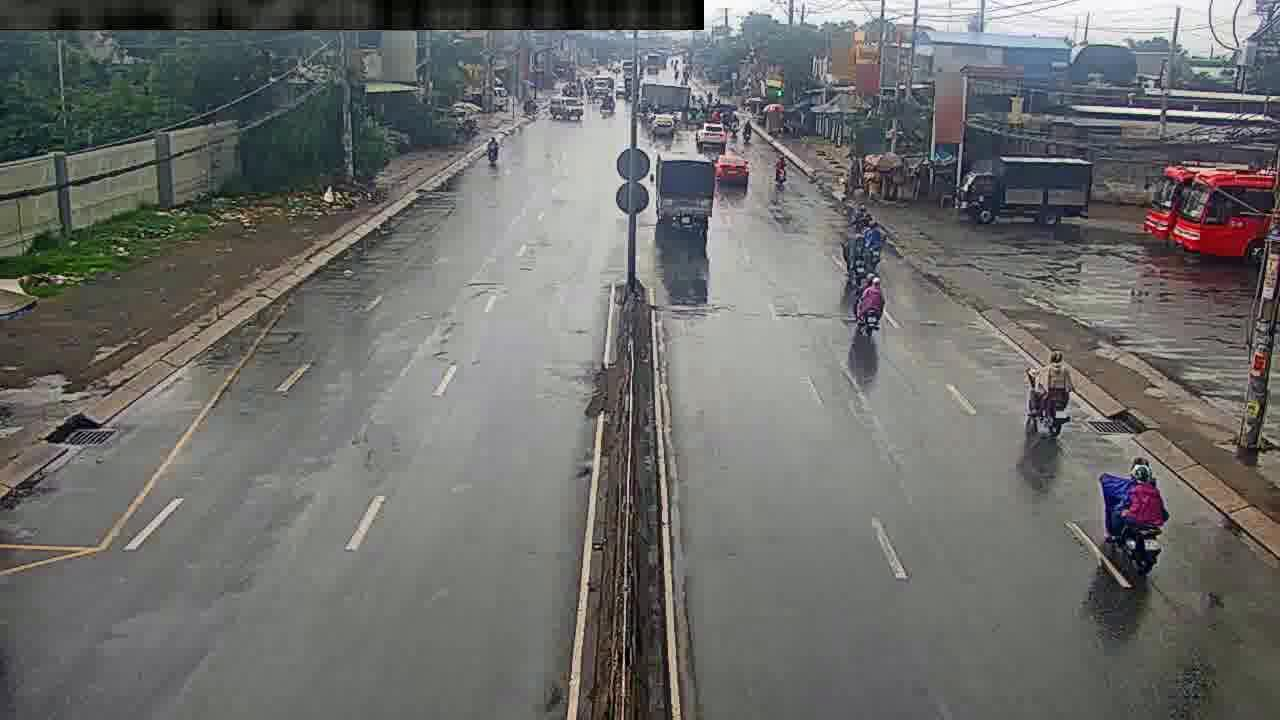8: (658, 157, 713, 228)
container: (713, 153, 751, 183)
motorbike: (1109, 460, 1163, 582), (1034, 350, 1069, 438), (853, 267, 882, 339), (853, 216, 877, 271), (775, 150, 792, 194), (483, 135, 503, 166)
